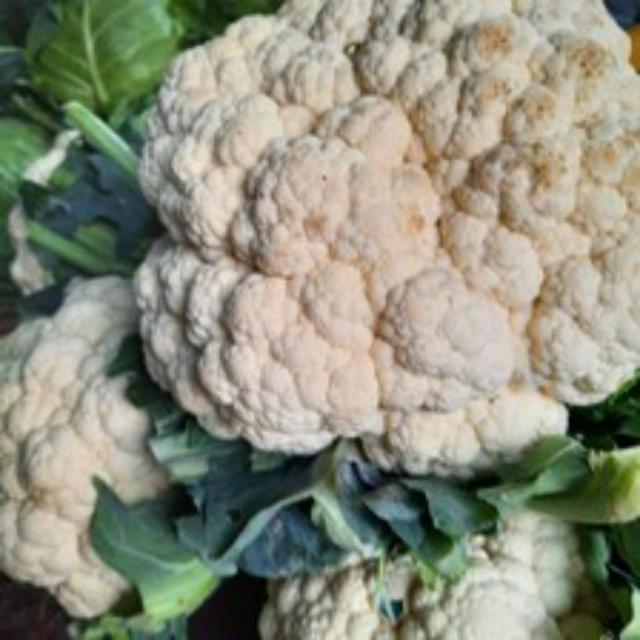cauliflower: (133, 1, 640, 478)
